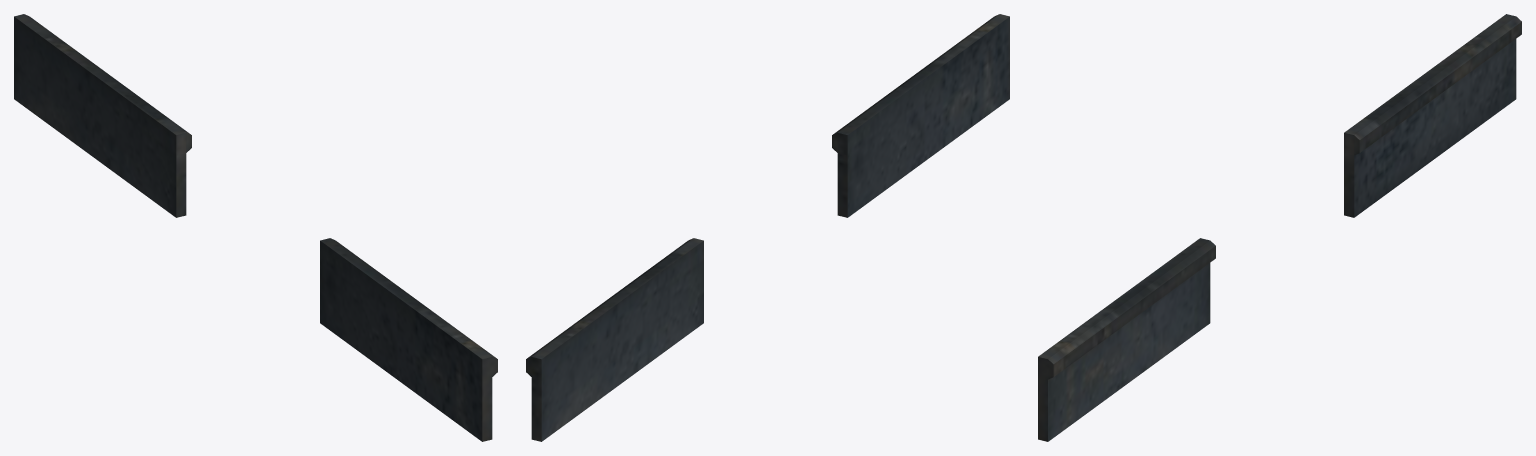
The model's file is BalconyDoubleWalls.FBX.
3 renders of one model, left to right at view 1: azimuth 30°, elevation 25°; view 2: azimuth 150°, elevation 25°; view 3: azimuth 330°, elevation 25°, orthographic.
Visible parts, largest first — view 1: BalconyDoubleWalls; view 2: BalconyDoubleWalls; view 3: BalconyDoubleWalls.
Boxes of the visible parts, x1,y1,x2,y2 form: BalconyDoubleWalls: (14, 14, 497, 441); BalconyDoubleWalls: (526, 14, 1009, 441); BalconyDoubleWalls: (1038, 14, 1521, 441).
Size of the model in its own units: 22.71 by 115 by 1177.
